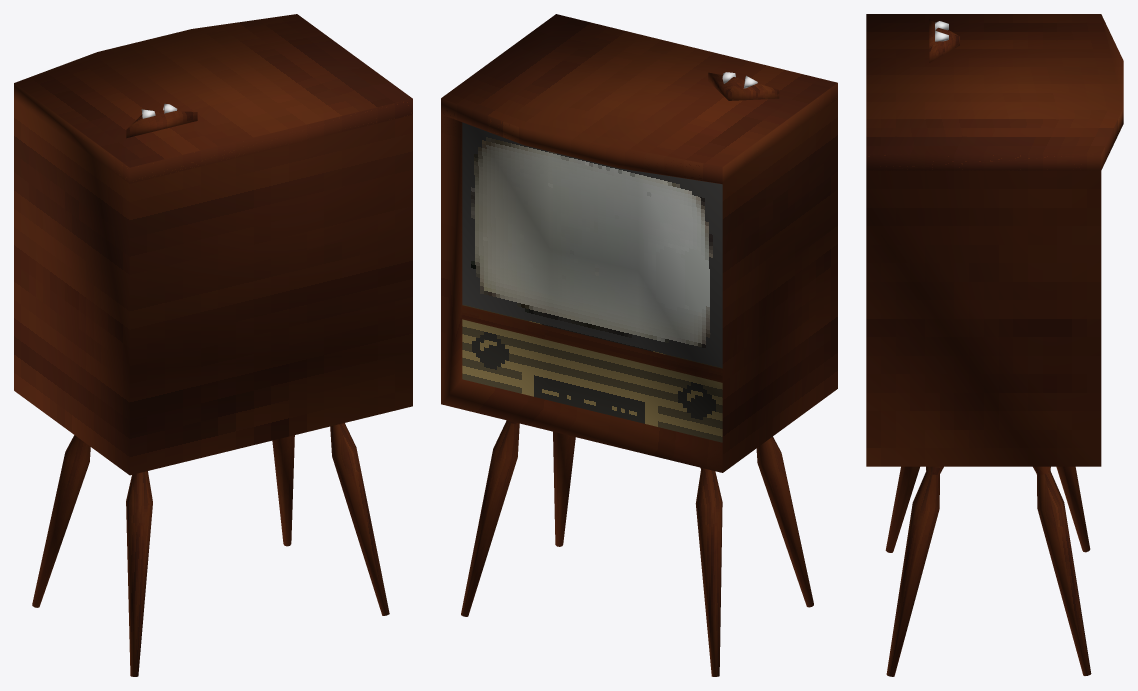
3 renders of one model, left to right at view 1: azimuth 30°, elevation 25°; view 2: azimuth 150°, elevation 25°; view 3: azimuth 270°, elevation 25°, orthographic. The views are drawn at different scales.
Visible parts, largest first — view 1: Cube.006; view 2: Cube.006; view 3: Cube.006.
Part boxes in pixels (x1,y1,x2,y2): Cube.006: [14, 14, 412, 676]; Cube.006: [441, 14, 837, 676]; Cube.006: [866, 14, 1123, 676].
Size of the model in its own units: 0.5962 by 1.09 by 0.4619.
Materials: 3 (2 with a texture image).
